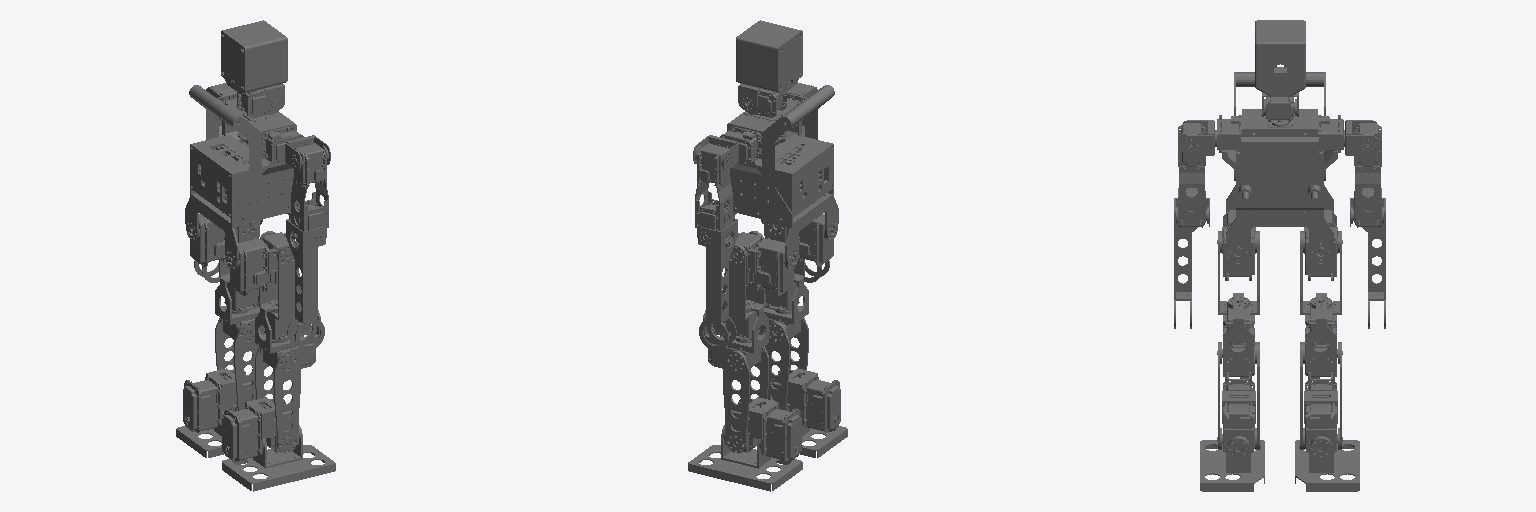
--- Facts derived from the render (not from the file) ---
3 views of the same robot in one strip: view 1: azimuth 30°, elevation 25°; view 2: azimuth 150°, elevation 25°; view 3: azimuth 270°, elevation 25° (orthographic).
Model ikid_robot with 21 links and 20 joints (20 revolute), rooted at base_link, posed every joint at zero.
Links seen in each view (by area): view 1: base_link, neck_front_swing_Link, right_ankle_front_swing_link, right_ankle_side_swing_link, right_arm_elbow_front_swing_Link, left_ankle_front_swing_link, right_arm_side_swing_Link, right_knee_front_swing_link, right_hip_side_swing_Link, right_hip_front_swing_Link, left_knee_front_swing_Link, right_hip_rotation_Link (+6 smaller); view 2: base_link, neck_front_swing_Link, left_ankle_side_swing_link, left_ankle_front_swing_link, left_arm_elbow_front_swing_Link, right_ankle_front_swing_link, left_arm_side_swing_Link, left_knee_front_swing_Link, left_hip_side_swing_Link, left_hip_front_swing_Link, right_knee_front_swing_link, left_hip_rotation_Link (+6 smaller); view 3: base_link, neck_front_swing_Link, right_ankle_side_swing_link, left_ankle_side_swing_link, left_arm_side_swing_Link, right_arm_side_swing_Link, left_ankle_front_swing_link, right_ankle_front_swing_link, left_hip_rotation_Link, right_hip_rotation_Link, left_arm_elbow_front_swing_Link, right_arm_elbow_front_swing_Link (+9 smaller).
Boxes of the visible links, x1,y1,x2,y2 form: base_link: [185, 85, 303, 269]; neck_front_swing_Link: [221, 20, 287, 111]; right_ankle_front_swing_link: [222, 397, 300, 461]; right_ankle_side_swing_link: [222, 425, 335, 491]; right_arm_elbow_front_swing_Link: [286, 219, 325, 350]; left_ankle_front_swing_link: [183, 368, 251, 432]; right_arm_side_swing_Link: [291, 143, 328, 242]; right_knee_front_swing_link: [255, 346, 300, 453]; right_hip_side_swing_Link: [229, 232, 298, 295]; right_hip_front_swing_Link: [259, 231, 312, 342]; left_knee_front_swing_Link: [215, 318, 258, 410]; right_hip_rotation_Link: [255, 300, 320, 368]; base_link: [720, 85, 838, 269]; neck_front_swing_Link: [736, 20, 802, 111]; left_ankle_side_swing_link: [688, 425, 802, 491]; left_ankle_front_swing_link: [723, 397, 801, 461]; left_arm_elbow_front_swing_Link: [698, 218, 737, 350]; right_ankle_front_swing_link: [772, 368, 840, 432]; left_arm_side_swing_Link: [695, 143, 732, 242]; left_knee_front_swing_Link: [723, 346, 768, 453]; left_hip_side_swing_Link: [725, 232, 794, 295]; left_hip_front_swing_Link: [711, 231, 764, 342]; right_knee_front_swing_link: [765, 318, 808, 410]; left_hip_rotation_Link: [703, 300, 768, 368]; base_link: [1215, 72, 1344, 261]; neck_front_swing_Link: [1255, 20, 1305, 116]; right_ankle_side_swing_link: [1200, 438, 1264, 491]; left_ankle_side_swing_link: [1295, 438, 1359, 491]; left_arm_side_swing_Link: [1354, 123, 1383, 227]; right_arm_side_swing_Link: [1176, 123, 1205, 227]; left_ankle_front_swing_link: [1303, 379, 1342, 455]; right_ankle_front_swing_link: [1217, 379, 1256, 455]; left_hip_rotation_Link: [1303, 293, 1342, 380]; right_hip_rotation_Link: [1217, 293, 1254, 380]; left_arm_elbow_front_swing_Link: [1350, 198, 1385, 328]; right_arm_elbow_front_swing_Link: [1174, 198, 1209, 328].
Bounding box of the posed robot: 0.1435 × 0.2704 × 0.6154 m (x, y, z).
21 mesh visuals loaded from 21 distinct referenced files (21 binary STL).

The robot description file, URDF, robot "ikid_robot":
<?xml version="1.0" encoding="utf-8"?>
<!-- This URDF was automatically created by SolidWorks to URDF Exporter! Originally created by Stephen Brawner ([email redacted]) 
     Commit Version: 1.6.0-4-g7f85cfe  Build Version: 1.6.7995.38578
     For more information, please see http://wiki.ros.org/sw_urdf_exporter -->
<robot
  name="ikid_robot">
  <link
    name="base_link">
    <inertial>
      <origin
        xyz="-0.0049139 0.00020164 0.42538"
        rpy="0 0 0" />
      <mass
        value="1.4497" />
      <inertia
        ixx="0.0014761"
        ixy="1.1059E-06"
        ixz="-1.1333E-05"
        iyy="0.0007507"
        iyz="-1.5608E-07"
        izz="0.0013609" />
    </inertial>
    <visual>
      <origin
        xyz="0 0 0"
        rpy="0 0 0" />
      <geometry>
        <mesh
          filename="package://ikid_robot/meshes/base_link.STL" />
      </geometry>
      <material
        name="">
        <color
          rgba="0.5 0.5 0.5 1" />
      </material>
    </visual>
    <collision>
      <origin
        xyz="0 0 0"
        rpy="0 0 0" />
      <geometry>
        <mesh
          filename="package://ikid_robot/meshes/base_link.STL" />
      </geometry>
    </collision>
  </link>
  <link
    name="left_arm_front_swing_Link">
    <inertial>
      <origin
        xyz="0.00023019 0.031788 0.00074659"
        rpy="0 0 0" />
      <mass
        value="0.013441" />
      <inertia
        ixx="3.381E-06"
        ixy="1.127E-19"
        ixz="-7.1015E-20"
        iyy="5.8777E-06"
        iyz="1.7696E-21"
        izz="6.6845E-06" />
    </inertial>
    <visual>
      <origin
        xyz="0 0 0"
        rpy="0 0 0" />
      <geometry>
        <mesh
          filename="package://ikid_robot/meshes/left_arm_front_swing_Link.STL" />
      </geometry>
      <material
        name="">
        <color
          rgba="0.5 0.5 0.5 1" />
      </material>
    </visual>
    <collision>
      <origin
        xyz="0 0 0"
        rpy="0 0 0" />
      <geometry>
        <mesh
          filename="package://ikid_robot/meshes/left_arm_front_swing_Link.STL" />
      </geometry>
    </collision>
  </link>
  <joint
    name="left_arm_front_swing"
    type="revolute">
    <origin
      xyz="0.023943 0.06306 0.47489"
      rpy="0 0 0" />
    <parent
      link="base_link" />
    <child
      link="left_arm_front_swing_Link" />
    <axis
      xyz="0 -1 0" />
    <limit
      lower="-3.14"
      upper="3.14"
      effort="100"
      velocity="1" />
  </joint>
  <link
    name="left_arm_side_swing_Link">
    <inertial>
      <origin
        xyz="8.2471E-05 0.00022065 -0.055139"
        rpy="0 0 0" />
      <mass
        value="0.17186" />
      <inertia
        ixx="4.8966E-05"
        ixy="-1.2039E-10"
        ixz="6.8181E-07"
        iyy="4.6821E-05"
        iyz="6.8181E-07"
        izz="2.9633E-05" />
    </inertial>
    <visual>
      <origin
        xyz="0 0 0"
        rpy="0 0 0" />
      <geometry>
        <mesh
          filename="package://ikid_robot/meshes/left_arm_side_swing_Link.STL" />
      </geometry>
      <material
        name="">
        <color
          rgba="0.5 0.5 0.5 1" />
      </material>
    </visual>
    <collision>
      <origin
        xyz="0 0 0"
        rpy="0 0 0" />
      <geometry>
        <mesh
          filename="package://ikid_robot/meshes/left_arm_side_swing_Link.STL" />
      </geometry>
    </collision>
  </link>
  <joint
    name="left_arm_side_swing"
    type="revolute">
    <origin
      xyz="-0.00086981 0.0493 0.00074659"
      rpy="0 0 0" />
    <parent
      link="left_arm_front_swing_Link" />
    <child
      link="left_arm_side_swing_Link" />
    <axis
      xyz="1 0 0" />
    <limit
      lower="-3.14"
      upper="3.14"
      effort="100"
      velocity="1" />
  </joint>
  <link
    name="left_arm_elbow_front_swing_Link">
    <inertial>
      <origin
        xyz="-0.013265 0.0079524 -0.061069"
        rpy="0 0 0" />
      <mass
        value="0.033574" />
      <inertia
        ixx="5.4533E-05"
        ixy="-2.4668E-08"
        ixz="-1.2632E-06"
        iyy="5.1238E-05"
        iyz="6.4462E-06"
        izz="9.8799E-06" />
    </inertial>
    <visual>
      <origin
        xyz="0 0 0"
        rpy="0 0 0" />
      <geometry>
        <mesh
          filename="package://ikid_robot/meshes/left_arm_elbow_front_swing_Link.STL" />
      </geometry>
      <material
        name="">
        <color
          rgba="0.5 0.5 0.5 1" />
      </material>
    </visual>
    <collision>
      <origin
        xyz="0 0 0"
        rpy="0 0 0" />
      <geometry>
        <mesh
          filename="package://ikid_robot/meshes/left_arm_elbow_front_swing_Link.STL" />
      </geometry>
    </collision>
  </link>
  <joint
    name="left_arm_elbow_front_swing"
    type="revolute">
    <origin
      xyz="0 0.0001 -0.1091"
      rpy="0 0 0" />
    <parent
      link="left_arm_side_swing_Link" />
    <child
      link="left_arm_elbow_front_swing_Link" />
    <axis
      xyz="0 -1 0" />
    <limit
      lower="-3.14"
      upper="3.14"
      effort="100"
      velocity="1" />
  </joint>
  <link
    name="right_arm_front_swing_Link">
    <inertial>
      <origin
        xyz="0.00023019 -0.032088 0.00074659"
        rpy="0 0 0" />
      <mass
        value="0.013441" />
      <inertia
        ixx="3.381E-06"
        ixy="-5.2071E-20"
        ixz="-7.1477E-20"
        iyy="5.8777E-06"
        iyz="-2.7864E-21"
        izz="6.6845E-06" />
    </inertial>
    <visual>
      <origin
        xyz="0 0 0"
        rpy="0 0 0" />
      <geometry>
        <mesh
          filename="package://ikid_robot/meshes/right_arm_front_swing_Link.STL" />
      </geometry>
      <material
        name="">
        <color
          rgba="0.5 0.5 0.5 1" />
      </material>
    </visual>
    <collision>
      <origin
        xyz="0 0 0"
        rpy="0 0 0" />
      <geometry>
        <mesh
          filename="package://ikid_robot/meshes/right_arm_front_swing_Link.STL" />
      </geometry>
    </collision>
  </link>
  <joint
    name="right_arm_front_swing"
    type="revolute">
    <origin
      xyz="0.023943 -0.06304 0.47489"
      rpy="0 0 0" />
    <parent
      link="base_link" />
    <child
      link="right_arm_front_swing_Link" />
    <axis
      xyz="0 1 0" />
    <limit
      lower="-3.14"
      upper="3.14"
      effort="100"
      velocity="1" />
  </joint>
  <link
    name="right_arm_side_swing_Link">
    <inertial>
      <origin
        xyz="8.2472E-05 -0.00022065 -0.055139"
        rpy="0 0 0" />
      <mass
        value="0.17186" />
      <inertia
        ixx="4.8966E-05"
        ixy="1.1897E-10"
        ixz="6.8181E-07"
        iyy="4.6821E-05"
        iyz="-6.8181E-07"
        izz="2.9633E-05" />
    </inertial>
    <visual>
      <origin
        xyz="0 0 0"
        rpy="0 0 0" />
      <geometry>
        <mesh
          filename="package://ikid_robot/meshes/right_arm_side_swing_Link.STL" />
      </geometry>
      <material
        name="">
        <color
          rgba="0.5 0.5 0.5 1" />
      </material>
    </visual>
    <collision>
      <origin
        xyz="0 0 0"
        rpy="0 0 0" />
      <geometry>
        <mesh
          filename="package://ikid_robot/meshes/right_arm_side_swing_Link.STL" />
      </geometry>
    </collision>
  </link>
  <joint
    name="right_arm_side_swing"
    type="revolute">
    <origin
      xyz="-0.00086981 -0.0496 0.00074659"
      rpy="0 0 0" />
    <parent
      link="right_arm_front_swing_Link" />
    <child
      link="right_arm_side_swing_Link" />
    <axis
      xyz="1 0 0" />
    <limit
      lower="-3.14"
      upper="3.14"
      effort="100"
      velocity="1" />
  </joint>
  <link
    name="right_arm_elbow_front_swing_Link">
    <inertial>
      <origin
        xyz="-0.013265 -0.0079524 -0.061069"
        rpy="0 0 0" />
      <mass
        value="0.033574" />
      <inertia
        ixx="5.4533E-05"
        ixy="2.4668E-08"
        ixz="-1.2632E-06"
        iyy="5.1238E-05"
        iyz="-6.4462E-06"
        izz="9.8799E-06" />
    </inertial>
    <visual>
      <origin
        xyz="0 0 0"
        rpy="0 0 0" />
      <geometry>
        <mesh
          filename="package://ikid_robot/meshes/right_arm_elbow_front_swing_Link.STL" />
      </geometry>
      <material
        name="">
        <color
          rgba="0.5 0.5 0.5 1" />
      </material>
    </visual>
    <collision>
      <origin
        xyz="0 0 0"
        rpy="0 0 0" />
      <geometry>
        <mesh
          filename="package://ikid_robot/meshes/right_arm_elbow_front_swing_Link.STL" />
      </geometry>
    </collision>
  </link>
  <joint
    name="right_arm_elbow_front_swing"
    type="revolute">
    <origin
      xyz="0 -0.0001 -0.1091"
      rpy="0 0 0" />
    <parent
      link="right_arm_side_swing_Link" />
    <child
      link="right_arm_elbow_front_swing_Link" />
    <axis
      xyz="0 1 0" />
    <limit
      lower="-3.14"
      upper="3.14"
      effort="100"
      velocity="1" />
  </joint>
  <link
    name="left_hip_side_swing_Link">
    <inertial>
      <origin
        xyz="-0.022135 0.00024677 -0.014884"
        rpy="0 0 0" />
      <mass
        value="0.29812" />
      <inertia
        ixx="0.00011266"
        ixy="-5.195E-09"
        ixz="1.7239E-06"
        iyy="0.00011815"
        iyz="-1.5301E-06"
        izz="7.1821E-05" />
    </inertial>
    <visual>
      <origin
        xyz="0 0 0"
        rpy="0 0 0" />
      <geometry>
        <mesh
          filename="package://ikid_robot/meshes/left_hip_side_swing_Link.STL" />
      </geometry>
      <material
        name="">
        <color
          rgba="0.5 0.5 0.5 1" />
      </material>
    </visual>
    <collision>
      <origin
        xyz="0 0 0"
        rpy="0 0 0" />
      <geometry>
        <mesh
          filename="package://ikid_robot/meshes/left_hip_side_swing_Link.STL" />
      </geometry>
    </collision>
  </link>
  <joint
    name="left_hip_side_swing"
    type="revolute">
    <origin
      xyz="0.0082185 0.05226 0.3215"
      rpy="0 0 0" />
    <parent
      link="base_link" />
    <child
      link="left_hip_side_swing_Link" />
    <axis
      xyz="1 0 0" />
    <limit
      lower="-3.14"
      upper="3.14"
      effort="100"
      velocity="1" />
  </joint>
  <link
    name="left_hip_front_swing_Link">
    <inertial>
      <origin
        xyz="0.011562 -0.00018218 -0.091435"
        rpy="0 0 0" />
      <mass
        value="0.18056" />
      <inertia
        ixx="7.4649E-05"
        ixy="-9.8475E-11"
        ixz="3.5001E-06"
        iyy="0.0001017"
        iyz="1.8648E-09"
        izz="4.8772E-05" />
    </inertial>
    <visual>
      <origin
        xyz="0 0 0"
        rpy="0 0 0" />
      <geometry>
        <mesh
          filename="package://ikid_robot/meshes/left_hip_front_swing_Link.STL" />
      </geometry>
      <material
        name="">
        <color
          rgba="0.5 0.5 0.5 1" />
      </material>
    </visual>
    <collision>
      <origin
        xyz="0 0 0"
        rpy="0 0 0" />
      <geometry>
        <mesh
          filename="package://ikid_robot/meshes/left_hip_front_swing_Link.STL" />
      </geometry>
    </collision>
  </link>
  <joint
    name="left_hip_front_swing"
    type="revolute">
    <origin
      xyz="0 0 0"
      rpy="0 0 0" />
    <parent
      link="left_hip_side_swing_Link" />
    <child
      link="left_hip_front_swing_Link" />
    <axis
      xyz="0 1 0" />
    <limit
      lower="-3.14"
      upper="3.14"
      effort="100"
      velocity="1" />
  </joint>
  <link
    name="left_hip_rotation_Link">
    <inertial>
      <origin
        xyz="0.014813 -3.7865E-05 -0.036419"
        rpy="0 0 0" />
      <mass
        value="0.18036" />
      <inertia
        ixx="4.8932E-05"
        ixy="1.5331E-06"
        ixz="3.2002E-07"
        iyy="0.00010177"
        iyz="7.7563E-13"
        izz="0.00010614" />
    </inertial>
    <visual>
      <origin
        xyz="0 0 0"
        rpy="0 0 0" />
      <geometry>
        <mesh
          filename="package://ikid_robot/meshes/left_hip_rotation_Link.STL" />
      </geometry>
      <material
        name="">
        <color
          rgba="0.5 0.5 0.5 1" />
      </material>
    </visual>
    <collision>
      <origin
        xyz="0 0 0"
        rpy="0 0 0" />
      <geometry>
        <mesh
          filename="package://ikid_robot/meshes/left_hip_rotation_Link.STL" />
      </geometry>
    </collision>
  </link>
  <joint
    name="left_hip_rotation"
    type="revolute">
    <origin
      xyz="0.00022454 9.9999E-05 -0.1093"
      rpy="0 0 0" />
    <parent
      link="left_hip_front_swing_Link" />
    <child
      link="left_hip_rotation_Link" />
    <axis
      xyz="0 0 1" />
    <limit
      lower="-3.14"
      upper="3.14"
      effort="100"
      velocity="1" />
  </joint>
  <link
    name="left_knee_front_swing_Link">
    <inertial>
      <origin
        xyz="3.525E-15 0.00037693 -0.055362"
        rpy="0 0 0" />
      <mass
        value="0.052413" />
      <inertia
        ixx="8.1823E-05"
        ixy="-3.6309E-23"
        ixz="1.0752E-18"
        iyy="8.85E-05"
        iyz="-2.8667E-09"
        izz="6.7561E-06" />
    </inertial>
    <visual>
      <origin
        xyz="0 0 0"
        rpy="0 0 0" />
      <geometry>
        <mesh
          filename="package://ikid_robot/meshes/left_knee_front_swing_Link.STL" />
      </geometry>
      <material
        name="">
        <color
          rgba="0.5 0.5 0.5 1" />
      </material>
    </visual>
    <collision>
      <origin
        xyz="0 0 0"
        rpy="0 0 0" />
      <geometry>
        <mesh
          filename="package://ikid_robot/meshes/left_knee_front_swing_Link.STL" />
      </geometry>
    </collision>
  </link>
  <joint
    name="left_knee_front_swing"
    type="revolute">
    <origin
      xyz="0 0 -0.0467"
      rpy="0 0 0" />
    <parent
      link="left_hip_rotation_Link" />
    <child
      link="left_knee_front_swing_Link" />
    <axis
      xyz="0 1 0" />
    <limit
      lower="-3.14"
      upper="3.14"
      effort="100"
      velocity="1" />
  </joint>
  <link
    name="left_ankle_front_swing_link">
    <inertial>
      <origin
        xyz="-0.027146 -2.2367E-05 0.016487"
        rpy="0 0 0" />
      <mass
        value="0.31725" />
      <inertia
        ixx="0.00012291"
        ixy="1.1096E-08"
        ixz="1.4979E-06"
        iyy="0.00012287"
        iyz="1.5389E-06"
        izz="8.1031E-05" />
    </inertial>
    <visual>
      <origin
        xyz="0 0 0"
        rpy="0 0 0" />
      <geometry>
        <mesh
          filename="package://ikid_robot/meshes/left_ankle_front_swing_link.STL" />
      </geometry>
      <material
        name="">
        <color
          rgba="0.5 0.5 0.5 1" />
      </material>
    </visual>
    <collision>
      <origin
        xyz="0 0 0"
        rpy="0 0 0" />
      <geometry>
        <mesh
          filename="package://ikid_robot/meshes/left_ankle_front_swing_link.STL" />
      </geometry>
    </collision>
  </link>
  <joint
    name="left_ankle_front_swing"
    type="revolute">
    <origin
      xyz="0 0 -0.12"
      rpy="0 0 0" />
    <parent
      link="left_knee_front_swing_Link" />
    <child
      link="left_ankle_front_swing_link" />
    <axis
      xyz="0 1 0" />
    <limit
      lower="-3.14"
      upper="3.14"
      effort="100"
      velocity="1" />
  </joint>
  <link
    name="left_ankle_side_swing_link">
    <inertial>
      <origin
        xyz="0.051938 0.0051363 -0.030595"
        rpy="0 0 0" />
      <mass
        value="0.072019" />
      <inertia
        ixx="4.1437E-05"
        ixy="-2.5099E-06"
        ixz="-5.8321E-07"
        iyy="9.0142E-05"
        iyz="1.8546E-07"
        izz="0.00012055" />
    </inertial>
    <visual>
      <origin
        xyz="0 0 0"
        rpy="0 0 0" />
      <geometry>
        <mesh
          filename="package://ikid_robot/meshes/left_ankle_side_swing_link.STL" />
      </geometry>
      <material
        name="">
        <color
          rgba="0.5 0.5 0.5 1" />
      </material>
    </visual>
    <collision>
      <origin
        xyz="0 0 0"
        rpy="0 0 0" />
      <geometry>
        <mesh
          filename="package://ikid_robot/meshes/left_ankle_side_swing_link.STL" />
      </geometry>
    </collision>
  </link>
  <joint
    name="left_ankle_side_swing"
    type="revolute">
    <origin
      xyz="-0.0543 0 0"
      rpy="0 0 0" />
    <parent
      link="left_ankle_front_swing_link" />
    <child
      link="left_ankle_side_swing_link" />
    <axis
      xyz="1 0 0" />
    <limit
      lower="-3.14"
      upper="3.14"
      effort="100"
      velocity="1" />
  </joint>
  <link
    name="right_hip_side_swing_Link">
    <inertial>
      <origin
        xyz="-0.022582 7.7703E-05 -0.015011"
        rpy="0 0 0" />
      <mass
        value="0.29664" />
      <inertia
        ixx="0.00011228"
        ixy="4.0876E-09"
        ixz="1.8595E-06"
        iyy="0.00011823"
        iyz="1.536E-06"
        izz="7.1716E-05" />
    </inertial>
    <visual>
      <origin
        xyz="0 0 0"
        rpy="0 0 0" />
      <geometry>
        <mesh
          filename="package://ikid_robot/meshes/right_hip_side_swing_Link.STL" />
      </geometry>
      <material
        name="">
        <color
          rgba="0.5 0.5 0.5 1" />
      </material>
    </visual>
    <collision>
      <origin
        xyz="0 0 0"
        rpy="0 0 0" />
      <geometry>
        <mesh
          filename="package://ikid_robot/meshes/right_hip_side_swing_Link.STL" />
      </geometry>
    </collision>
  </link>
  <joint
    name="right_hip_side_swing"
    type="revolute">
    <origin
      xyz="0.008443 -0.05274 0.3216"
      rpy="0 0 0" />
    <parent
      link="base_link" />
    <child
      link="right_hip_side_swing_Link" />
    <axis
      xyz="1 0 0" />
    <limit
      lower="-3.14"
      upper="3.14"
      effort="100"
      velocity="1" />
  </joint>
  <link
    name="right_hip_front_swing_Link">
    <inertial>
      <origin
        xyz="0.011521 2.9657E-05 -0.093025"
        rpy="0 0 0" />
      <mass
        value="0.17768" />
      <inertia
        ixx="7.4462E-05"
        ixy="1.0313E-10"
        ixz="3.5001E-06"
        iyy="0.00010133"
        iyz="-1.8664E-09"
        izz="4.8585E-05" />
    </inertial>
    <visual>
      <origin
        xyz="0 0 0"
        rpy="0 0 0" />
      <geometry>
        <mesh
          filename="package://ikid_robot/meshes/right_hip_front_swing_Link.STL" />
      </geometry>
      <material
        name="">
        <color
          rgba="0.5 0.5 0.5 1" />
      </material>
    </visual>
    <collision>
      <origin
        xyz="0 0 0"
        rpy="0 0 0" />
      <geometry>
        <mesh
          filename="package://ikid_robot/meshes/right_hip_front_swing_Link.STL" />
      </geometry>
    </collision>
  </link>
  <joint
    name="right_hip_front_swing"
    type="revolute">
    <origin
      xyz="0 0 0"
      rpy="0 0 0" />
    <parent
      link="right_hip_side_swing_Link" />
    <child
      link="right_hip_front_swing_Link" />
    <axis
      xyz="0 -1 0" />
    <limit
      lower="-3.14"
      upper="3.14"
      effort="100"
      velocity="1" />
  </joint>
  <link
    name="right_hip_rotation_Link">
    <inertial>
      <origin
        xyz="0.015054 -0.00032066 -0.036252"
        rpy="0 0 0" />
      <mass
        value="0.17747" />
      <inertia
        ixx="4.8745E-05"
        ixy="-1.5331E-06"
        ixz="3.2002E-07"
        iyy="0.0001014"
        iyz="7.7563E-13"
        izz="0.00010595" />
    </inertial>
    <visual>
      <origin
        xyz="0 0 0"
        rpy="0 0 0" />
      <geometry>
        <mesh
          filename="package://ikid_robot/meshes/right_hip_rotation_Link.STL" />
      </geometry>
      <material
        name="">
        <color
          rgba="0.5 0.5 0.5 1" />
      </material>
    </visual>
    <collision>
      <origin
        xyz="0 0 0"
        rpy="0 0 0" />
      <geometry>
        <mesh
          filename="package://ikid_robot/meshes/right_hip_rotation_Link.STL" />
      </geometry>
    </collision>
  </link>
  <joint
    name="right_hip_rotation"
    type="revolute">
    <origin
      xyz="0 0.0001 -0.1094"
      rpy="0 0 0" />
    <parent
      link="right_hip_front_swing_Link" />
    <child
      link="right_hip_rotation_Link" />
    <axis
      xyz="0 0 1" />
    <limit
      lower="-3.14"
      upper="3.14"
      effort="100"
      velocity="1" />
  </joint>
  <link
    name="right_knee_front_swing_link">
    <inertial>
      <origin
        xyz="1.9984E-15 0.0007954 -0.052476"
        rpy="0 0 0" />
      <mass
        value="0.055296" />
      <inertia
        ixx="8.201E-05"
        ixy="4.7159E-20"
        ixz="-3.0169E-20"
        iyy="8.8869E-05"
        iyz="2.8667E-09"
        izz="6.943E-06" />
    </inertial>
    <visual>
      <origin
        xyz="0 0 0"
        rpy="0 0 0" />
      <geometry>
        <mesh
          filename="package://ikid_robot/meshes/right_knee_front_swing_link.STL" />
      </geometry>
      <material
        name="">
        <color
          rgba="0.5 0.5 0.5 1" />
      </material>
    </visual>
    <collision>
      <origin
        xyz="0 0 0"
        rpy="0 0 0" />
      <geometry>
        <mesh
          filename="package://ikid_robot/meshes/right_knee_front_swing_link.STL" />
      </geometry>
    </collision>
  </link>
  <joint
    name="right_knee_front_swing"
    type="revolute">
    <origin
      xyz="0 0 -0.0467"
      rpy="0 0 0" />
    <parent
      link="right_hip_rotation_Link" />
    <child
      link="right_knee_front_swing_link" />
    <axis
      xyz="0 -1 0" />
    <limit
      lower="-3.14"
      upper="3.14"
      effort="100"
      velocity="1" />
  </joint>
  <link
    name="right_ankle_front_swing_link">
    <inertial>
      <origin
        xyz="-0.027146 2.2372E-05 0.016487"
        rpy="0 0 0" />
      <mass
        value="0.31725" />
      <inertia
        ixx="0.00012291"
        ixy="-1.1101E-08"
        ixz="1.4979E-06"
        iyy="0.00012287"
        iyz="-1.5389E-06"
        izz="8.1031E-05" />
    </inertial>
    <visual>
      <origin
        xyz="0 0 0"
        rpy="0 0 0" />
      <geometry>
        <mesh
          filename="package://ikid_robot/meshes/right_ankle_front_swing_link.STL" />
      </geometry>
      <material
        name="">
        <color
          rgba="0.5 0.5 0.5 1" />
      </material>
    </visual>
    <collision>
      <origin
        xyz="0 0 0"
        rpy="0 0 0" />
      <geometry>
        <mesh
          filename="package://ikid_robot/meshes/right_ankle_front_swing_link.STL" />
      </geometry>
    </collision>
  </link>
  <joint
    name="right_ankle_front_swing"
    type="revolute">
    <origin
      xyz="0 0 -0.12"
      rpy="0 0 0" />
    <parent
      link="right_knee_front_swing_link" />
    <child
      link="right_ankle_front_swing_link" />
    <axis
      xyz="0 -1 0" />
    <limit
      lower="-3.14"
      upper="3.14"
      effort="100"
      velocity="1" />
  </joint>
  <link
    name="right_ankle_side_swing_link">
    <inertial>
      <origin
        xyz="0.051938 -0.0051363 -0.030595"
        rpy="0 0 0" />
      <mass
        value="0.072019" />
      <inertia
        ixx="4.1437E-05"
        ixy="2.5099E-06"
        ixz="-5.8321E-07"
        iyy="9.0142E-05"
        iyz="-1.8546E-07"
        izz="0.00012055" />
    </inertial>
    <visual>
      <origin
        xyz="0 0 0"
        rpy="0 0 0" />
      <geometry>
        <mesh
          filename="package://ikid_robot/meshes/right_ankle_side_swing_link.STL" />
      </geometry>
      <material
        name="">
        <color
          rgba="0.5 0.5 0.5 1" />
      </material>
    </visual>
    <collision>
      <origin
        xyz="0 0 0"
        rpy="0 0 0" />
      <geometry>
        <mesh
          filename="package://ikid_robot/meshes/right_ankle_side_swing_link.STL" />
      </geometry>
    </collision>
  </link>
  <joint
    name="right_ankle_side_swing"
    type="revolute">
    <origin
      xyz="-0.0543 0 0"
      rpy="0 0 0" />
    <parent
      link="right_ankle_front_swing_link" />
    <child
      link="right_ankle_side_swing_link" />
    <axis
      xyz="1 0 0" />
    <limit
      lower="-3.14"
      upper="3.14"
      effort="100"
      velocity="1" />
  </joint>
  <link
    name="neck_rotation_Link">
    <inertial>
      <origin
        xyz="-0.011959 -0.00032428 0.039298"
        rpy="0 0 0" />
      <mass
        value="0.079118" />
      <inertia
        ixx="1.3775E-05"
        ixy="6.8424E-07"
        ixz="2.4311E-09"
        iyy="1.8463E-05"
        iyz="5.9485E-11"
        izz="2.2185E-05" />
    </inertial>
    <visual>
      <origin
        xyz="0 0 0"
        rpy="0 0 0" />
      <geometry>
        <mesh
          filename="package://ikid_robot/meshes/neck_rotation_Link.STL" />
      </geometry>
      <material
        name="">
        <color
          rgba="0.5 0.5 0.5 1" />
      </material>
    </visual>
    <collision>
      <origin
        xyz="0 0 0"
        rpy="0 0 0" />
      <geometry>
        <mesh
          filename="package://ikid_robot/meshes/neck_rotation_Link.STL" />
      </geometry>
    </collision>
  </link>
  <joint
    name="neck_rotation"
    type="revolute">
    <origin
      xyz="0.023943 1E-05 0.47859"
      rpy="0 0 0" />
    <parent
      link="base_link" />
    <child
      link="neck_rotation_Link" />
    <axis
      xyz="0 0 -1" />
    <limit
      lower="-3.14"
      upper="3.14"
      effort="100"
      velocity="1" />
  </joint>
  <link
    name="neck_front_swing_Link">
    <inertial>
      <origin
        xyz="-0.024276 0.00099999 0.053934"
        rpy="0 0 0" />
      <mass
        value="0.25423" />
      <inertia
        ixx="0.00029115"
        ixy="1.0021E-10"
        ixz="1.3919E-05"
        iyy="0.00025896"
        iyz="-7.4912E-11"
        izz="0.00019858" />
    </inertial>
    <visual>
      <origin
        xyz="0 0 0"
        rpy="0 0 0" />
      <geometry>
        <mesh
          filename="package://ikid_robot/meshes/neck_front_swing_Link.STL" />
      </geometry>
      <material
        name="">
        <color
          rgba="0.5 0.5 0.5 1" />
      </material>
    </visual>
    <collision>
      <origin
        xyz="0 0 0"
        rpy="0 0 0" />
      <geometry>
        <mesh
          filename="package://ikid_robot/meshes/neck_front_swing_Link.STL" />
      </geometry>
    </collision>
  </link>
  <joint
    name="neck_front_swing"
    type="revolute">
    <origin
      xyz="-0.001 -0.0005 0.0393"
      rpy="0 0 0" />
    <parent
      link="neck_rotation_Link" />
    <child
      link="neck_front_swing_Link" />
    <axis
      xyz="0 1 0" />
    <limit
      lower="-3.14"
      upper="3.14"
      effort="100"
      velocity="1" />
  </joint>
</robot>
